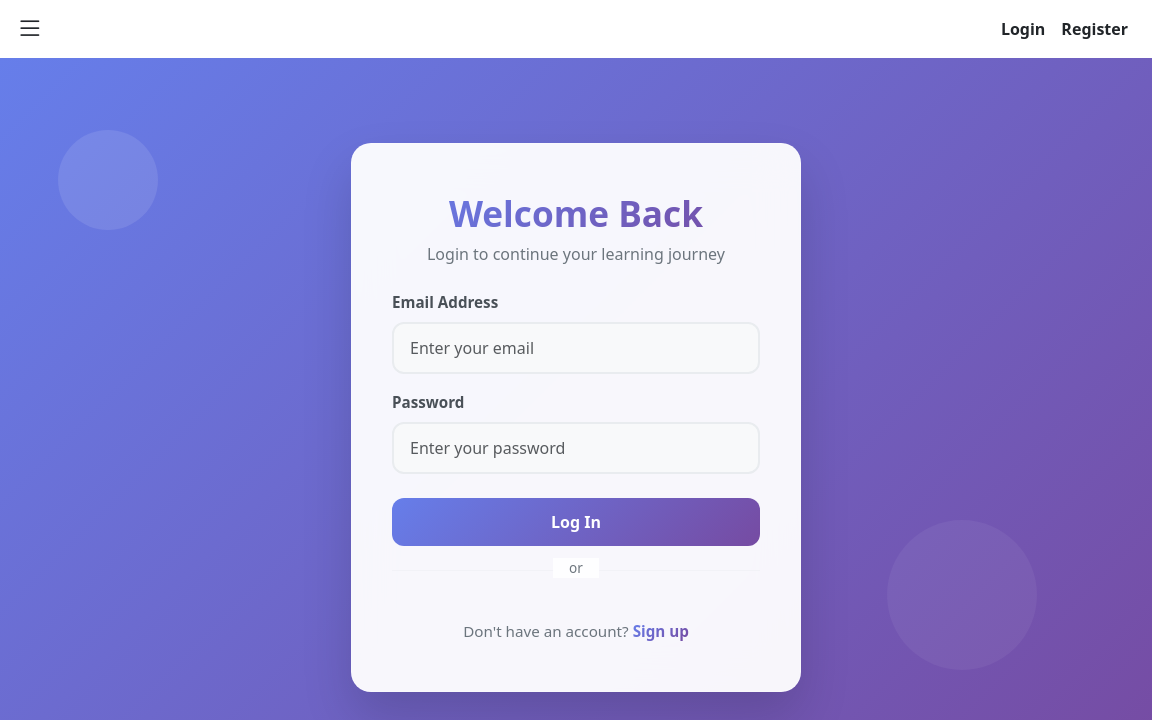
it: Login Component › Form Validation › should show error when email is empty but password is filled
In the password field with placeholder "Enter your password": (576, 448) [392,422,760,474], type "password123"
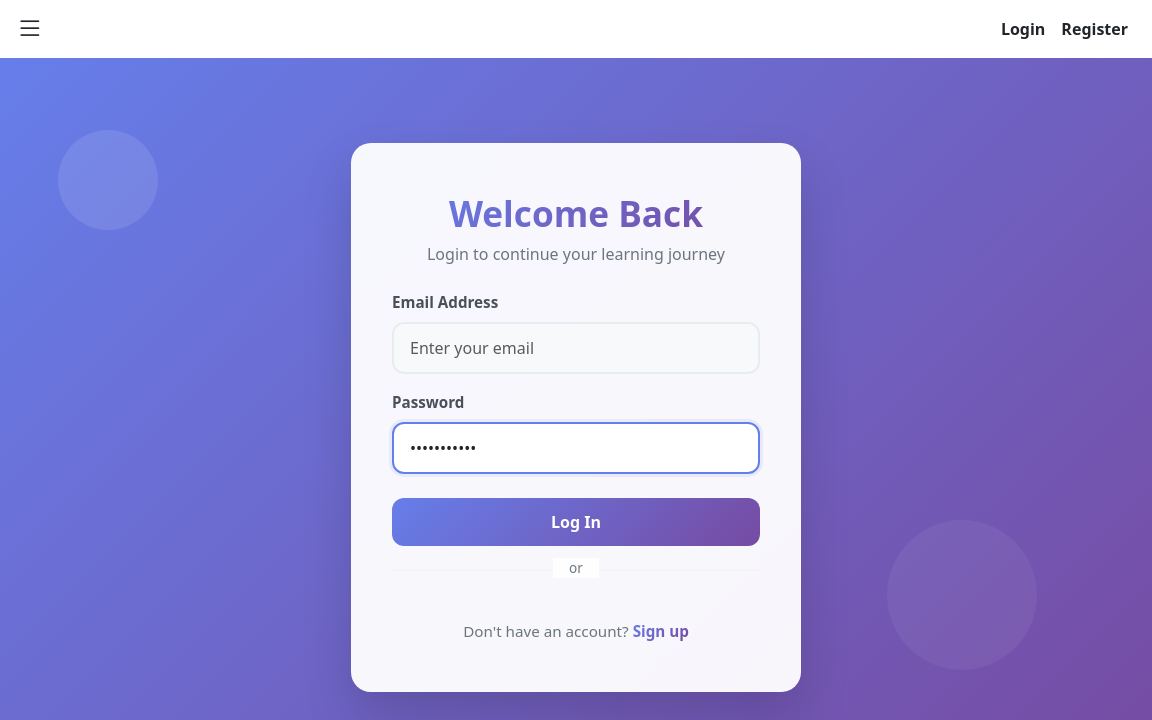
Submit the form, box [392,290,760,546]
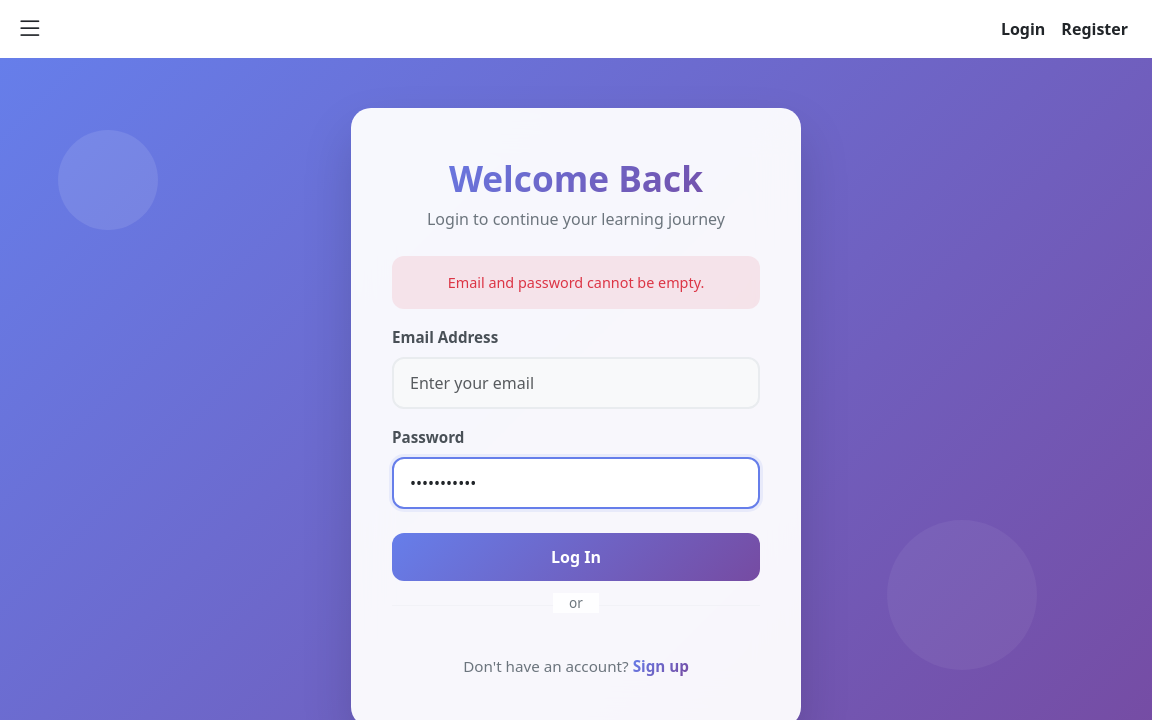
Expected: the text "Email and password cannot be empty." is shown, [392,256,760,309]
